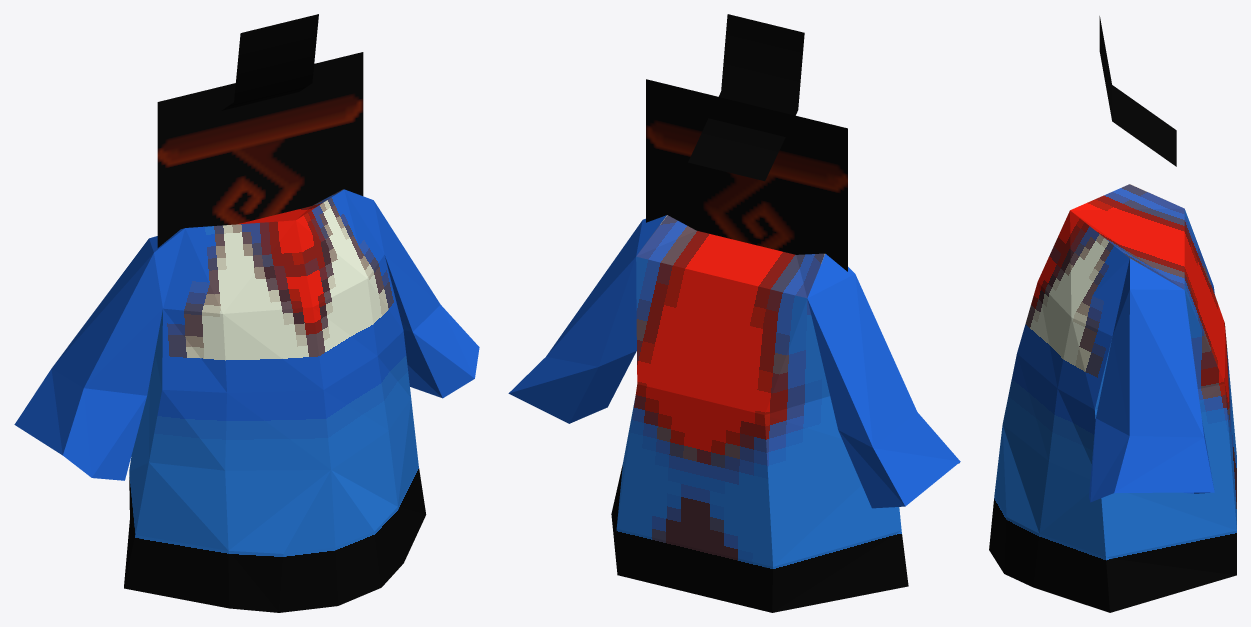
3 views of the same model, side by side, from view 1: azimuth 30°, elevation 25°; view 2: azimuth 150°, elevation 25°; view 3: azimuth 270°, elevation 25° (orthographic). The views are drawn at different scales.
Parts seen in each view (by area): view 1: clo_top01; view 2: clo_top01; view 3: clo_top01.
Part boxes in pixels (x1,y1,x2,y2): clo_top01: (14,14,479,612); clo_top01: (508,14,960,612); clo_top01: (989,16,1236,612).
Bounding box in the file's own units: 0.7539 × 0.9385 × 0.4075.
Materials: 2 (2 with a texture image).
